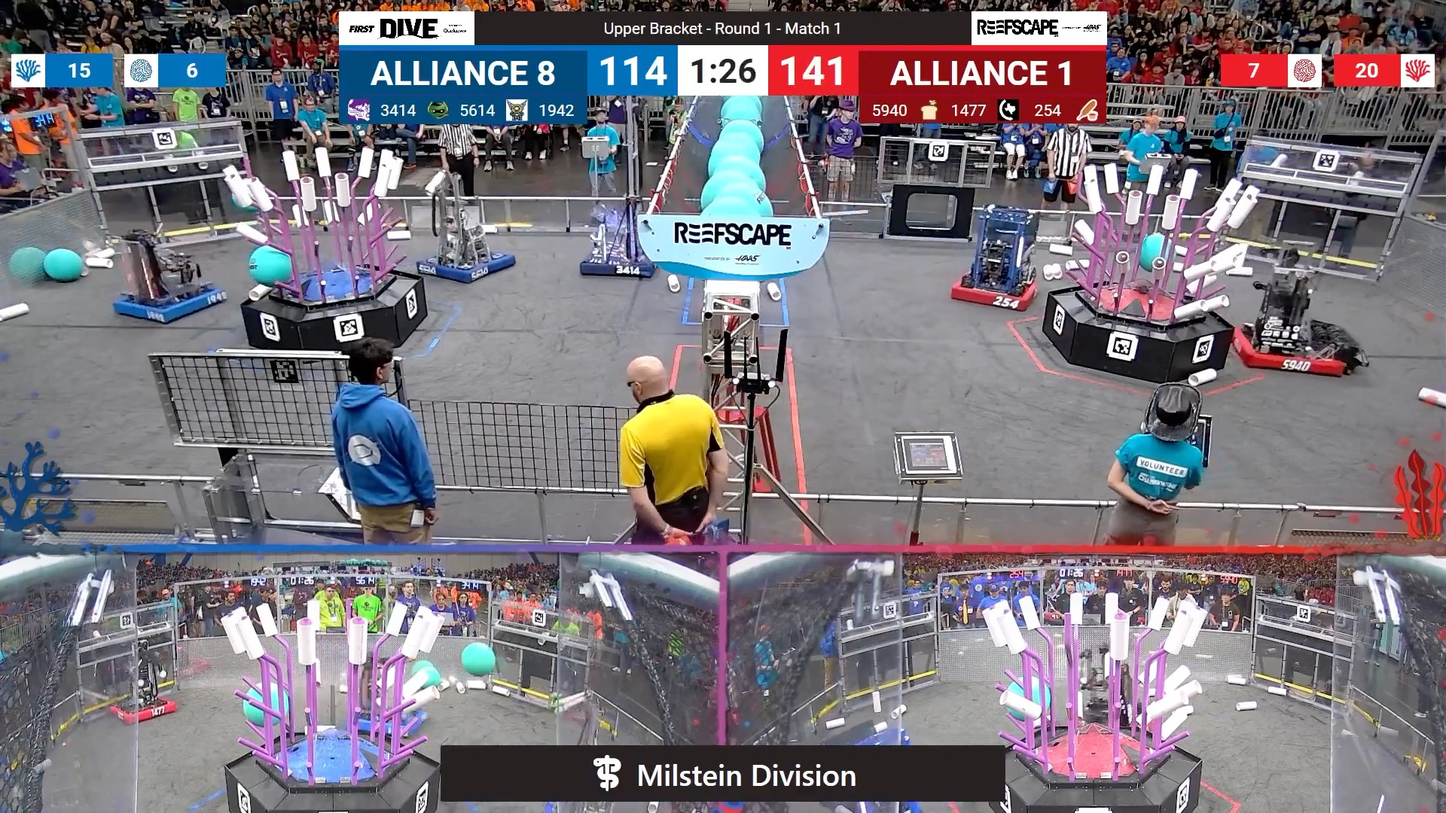bumpers: (1229, 319, 1361, 383), (109, 282, 232, 329), (942, 266, 1046, 316), (411, 248, 526, 287), (577, 239, 663, 281), (101, 692, 183, 727)
